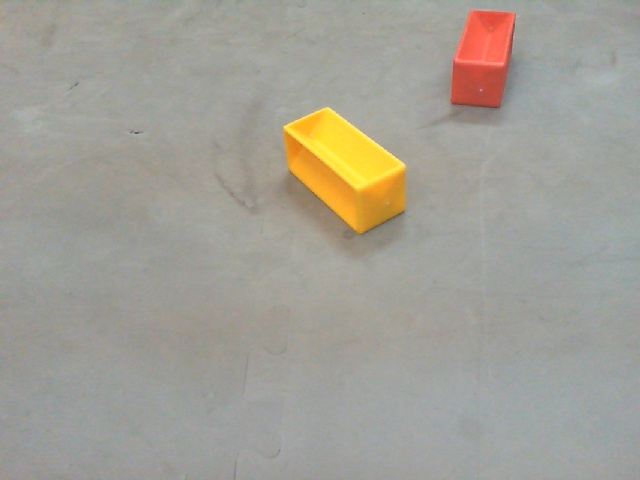RedSample: (448, 6, 518, 109)
YellowSample: (280, 105, 409, 237)
